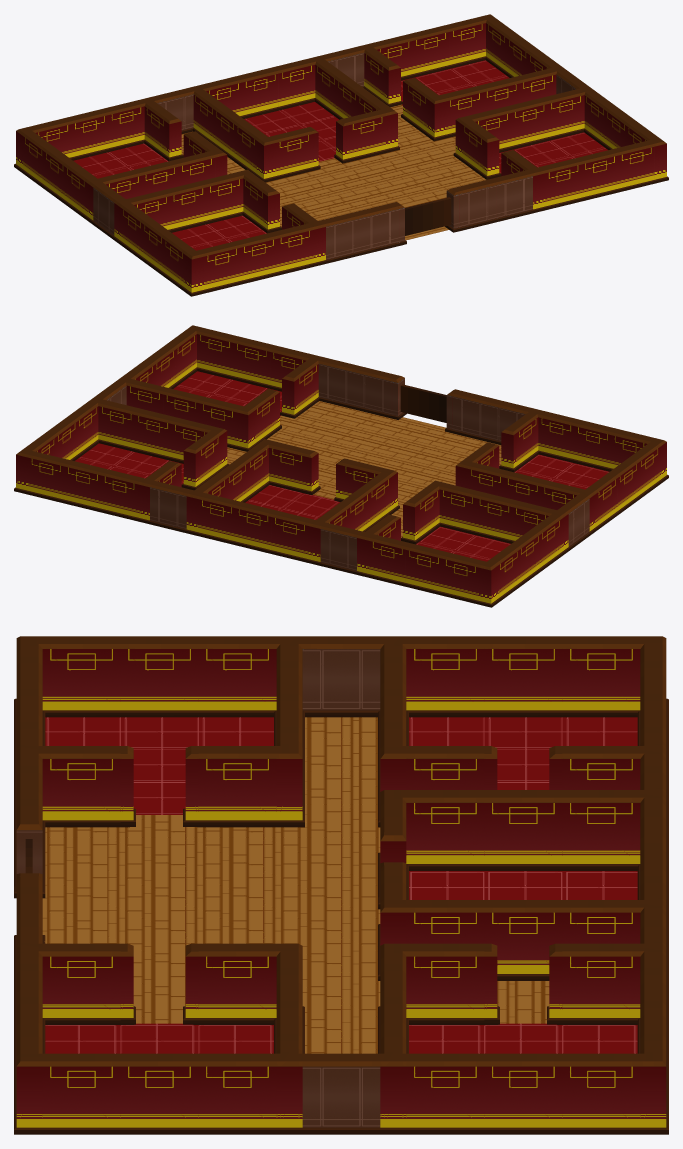
Rendered from EnvironmentAssets_v5 test.fbx.
The picture shows the model from 3 angles, top to bottom: view 1: azimuth 30°, elevation 25°; view 2: azimuth 150°, elevation 25°; view 3: azimuth 270°, elevation 25°; orthographic projection. The views are drawn at different scales.
Visible parts, largest first — view 1: Floor_v3.002; view 2: Floor_v3.002; view 3: Floor_v3.002.
Part boxes in pixels (<box>): Floor_v3.002: <box>14,14,668,296</box>; Floor_v3.002: <box>14,325,668,607</box>; Floor_v3.002: <box>14,636,668,1134</box>.
Size of the model in its own units: 3920 by 300 by 2520.
